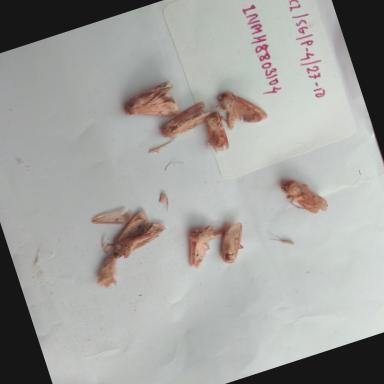abw: (94, 199, 174, 266), (197, 205, 270, 274), (112, 70, 190, 130), (207, 76, 272, 136), (150, 94, 219, 146), (163, 218, 228, 272), (196, 104, 236, 158)
